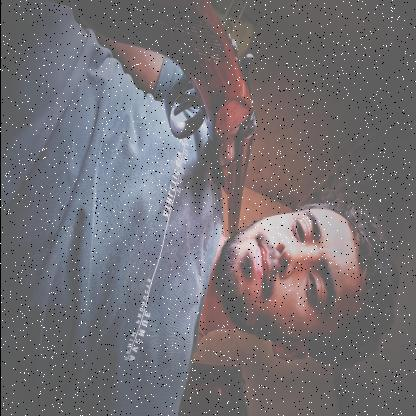rifle: (71, 0, 258, 241)
